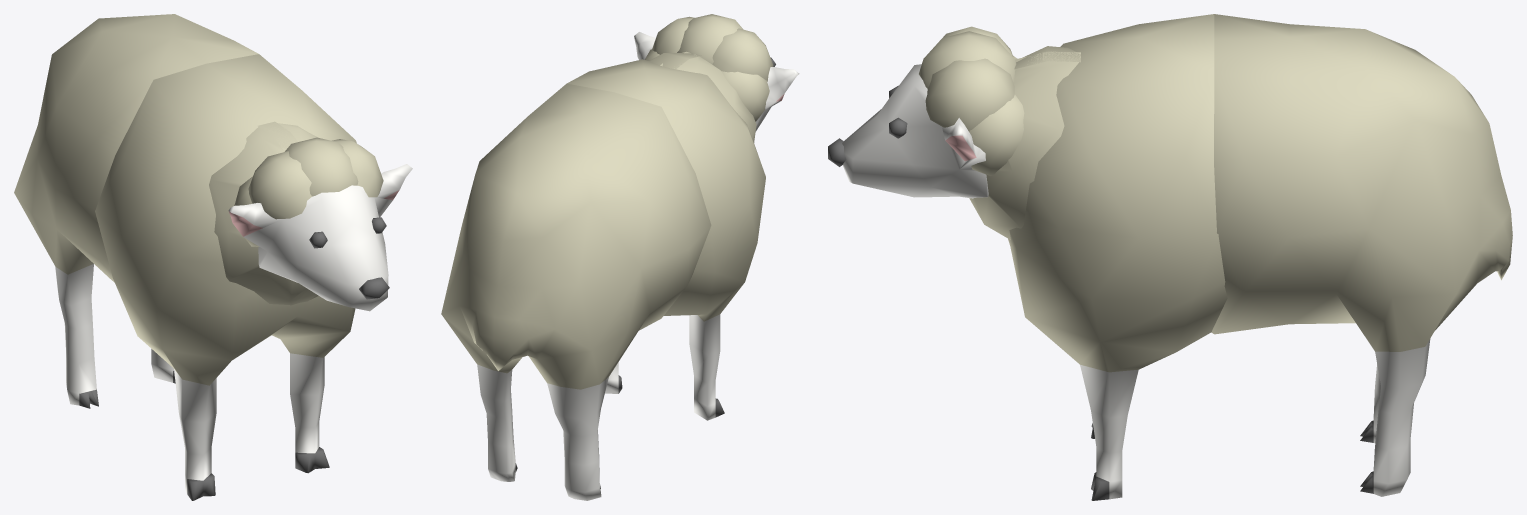
Rendered from 72d7392d-16e8-4567-a768-963576f5aaca.glb.
The picture shows the model from 3 angles, left to right: view 1: azimuth 30°, elevation 25°; view 2: azimuth 150°, elevation 25°; view 3: azimuth 270°, elevation 25°; orthographic projection. The views are drawn at different scales.
Parts seen in each view (by area): view 1: Sheep.1; view 2: Sheep.1; view 3: Sheep.1.
Boxes of the visible parts, box(x1,y1,x2,y2) form: Sheep.1: box(14, 14, 412, 500); Sheep.1: box(441, 14, 799, 500); Sheep.1: box(828, 14, 1512, 500).
Size of the model in its own units: 338 by 528 by 766.
